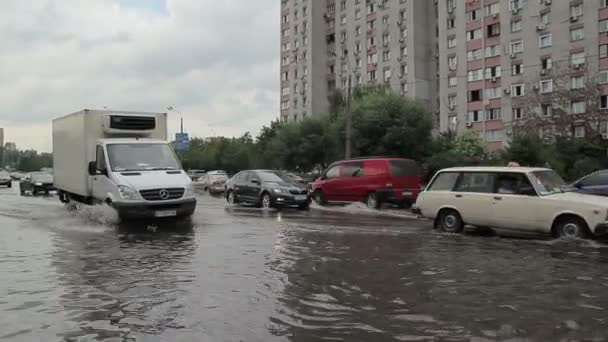Carro: (51, 111, 200, 234), (409, 161, 608, 248), (305, 156, 422, 212), (223, 165, 313, 214), (17, 168, 62, 201), (189, 170, 232, 196), (1, 169, 15, 192)
